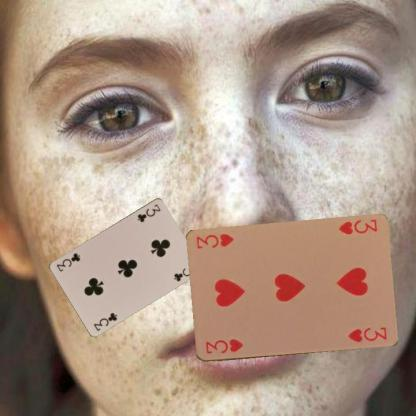3c: (134, 202, 162, 224), (92, 310, 118, 332)
3h: (203, 336, 244, 356), (336, 218, 378, 236)
